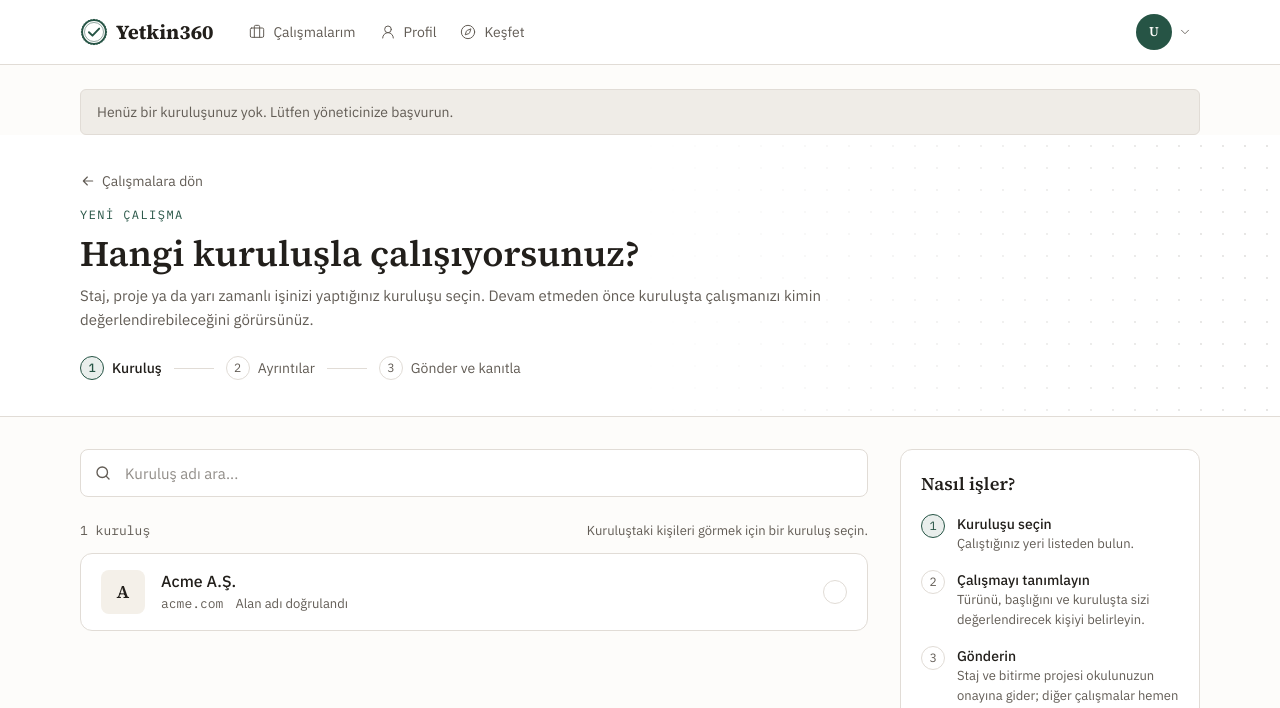
KurulusSecPage (/calismalar/kurulus-sec) › kuruluş seçilince onaylayıcıları maskeli e-postayla gösterir ve olustur linkine yönlendirir
The width and height of the screenshot is (1280, 708).
Click the button "A Acme A.Ş. acme.com Alan adı doğrulandı" at (123, 592), box [81, 554, 867, 630]
(page scrolled)
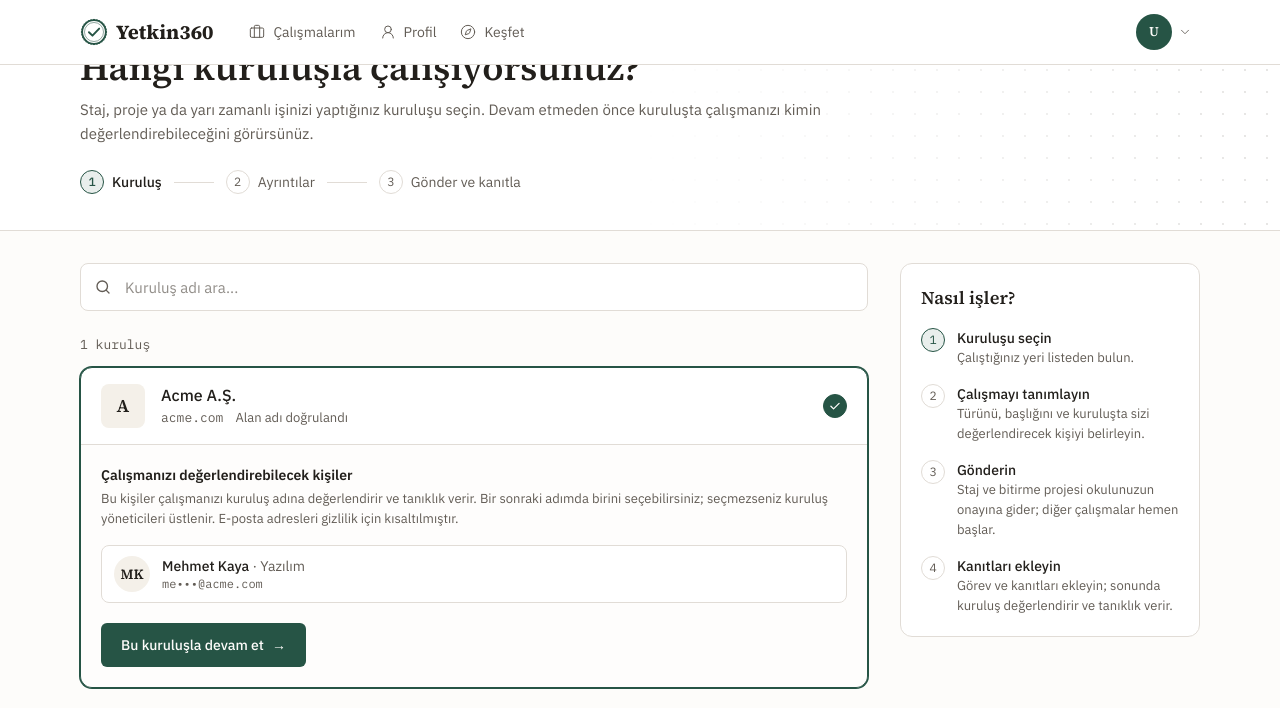
Result: the text "Mehmet Kaya" is shown at [162, 556, 249, 574]
Result: the text "me•••@acme.com" is shown at [162, 576, 263, 590]
Result: the button "A Acme A.Ş. acme.com Alan adı doğrulandı" is expanded at [81, 368, 867, 444]
